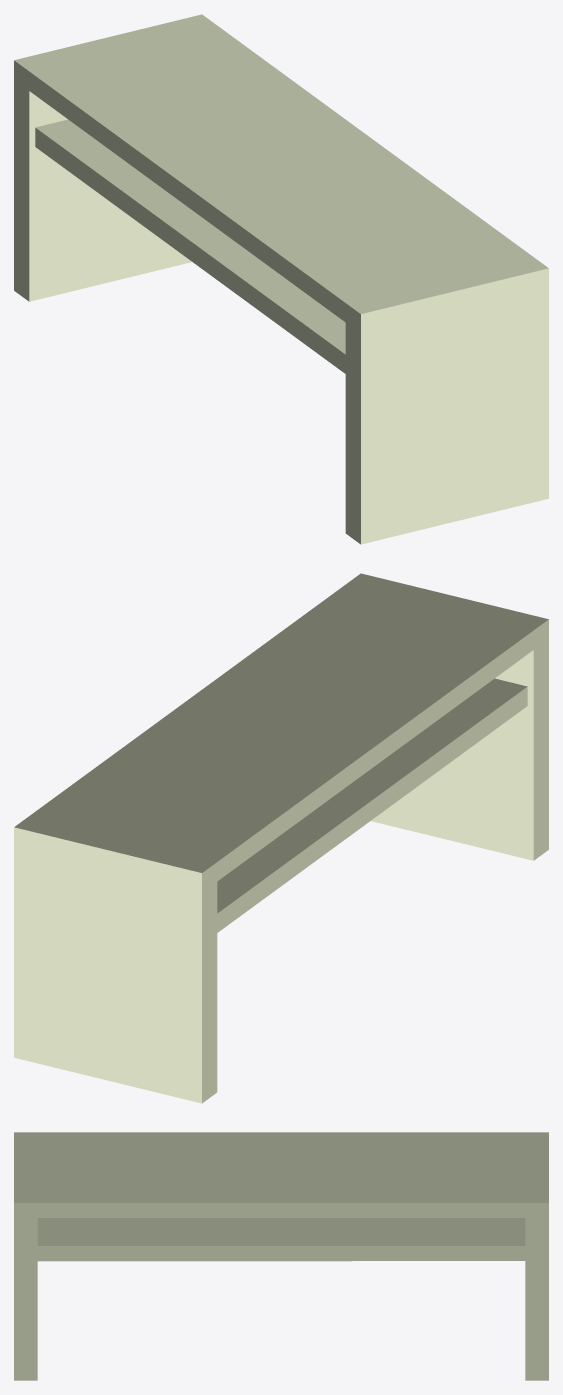
The model's file is hotl_desk.FBX.
3 views of the same model, one above another, from view 1: azimuth 30°, elevation 25°; view 2: azimuth 150°, elevation 25°; view 3: azimuth 270°, elevation 25° (orthographic). The views are drawn at different scales.
Visible parts, largest first — view 1: desk; view 2: desk; view 3: desk.
Part boxes in pixels (x1,y1,x2,y2): desk: [14, 14, 548, 544]; desk: [14, 573, 548, 1103]; desk: [14, 1132, 548, 1380].
Bounding box in the file's own units: 0.748 × 0.8757 × 2.39.
